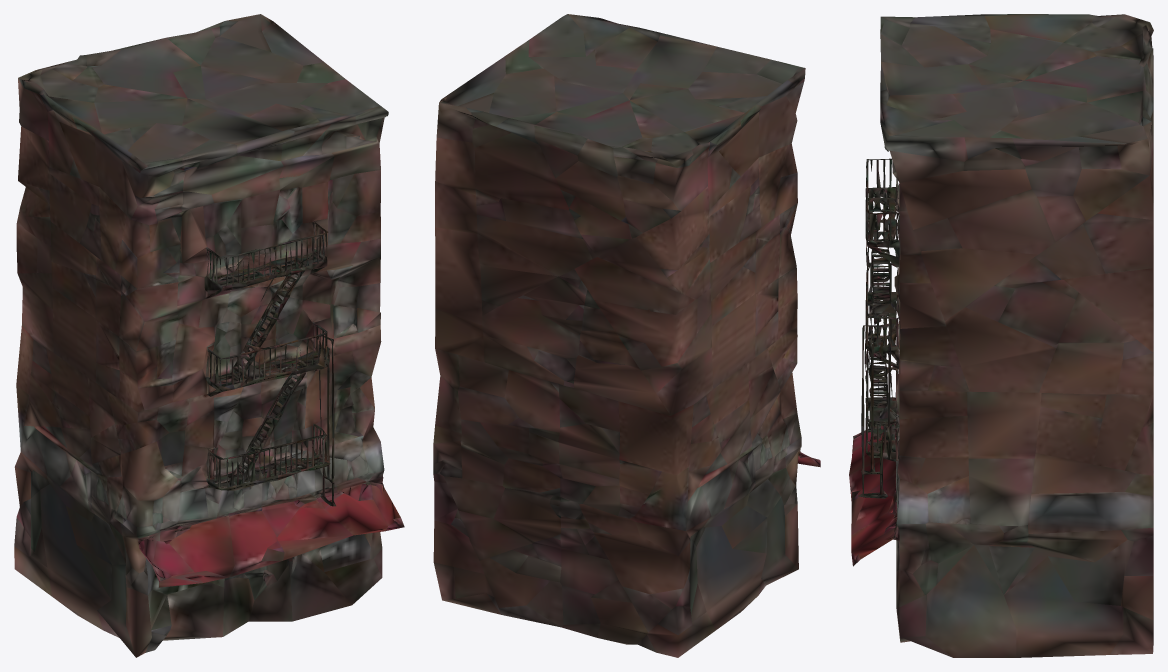
File: pork_store_lod.glb
3 views of the same model, side by side, from view 1: azimuth 30°, elevation 25°; view 2: azimuth 150°, elevation 25°; view 3: azimuth 270°, elevation 25° (orthographic). The views are drawn at different scales.
Parts seen in each view (by area): view 1: mesh_node; view 2: mesh_node; view 3: mesh_node.
Part boxes in pixels (x1,y1,x2,y2): mesh_node: (14,14,404,657); mesh_node: (433,14,820,657); mesh_node: (849,14,1153,657).
Size of the model in its own units: 7.41 by 14 by 7.47.
Materials: 1 (1 with a texture image).
